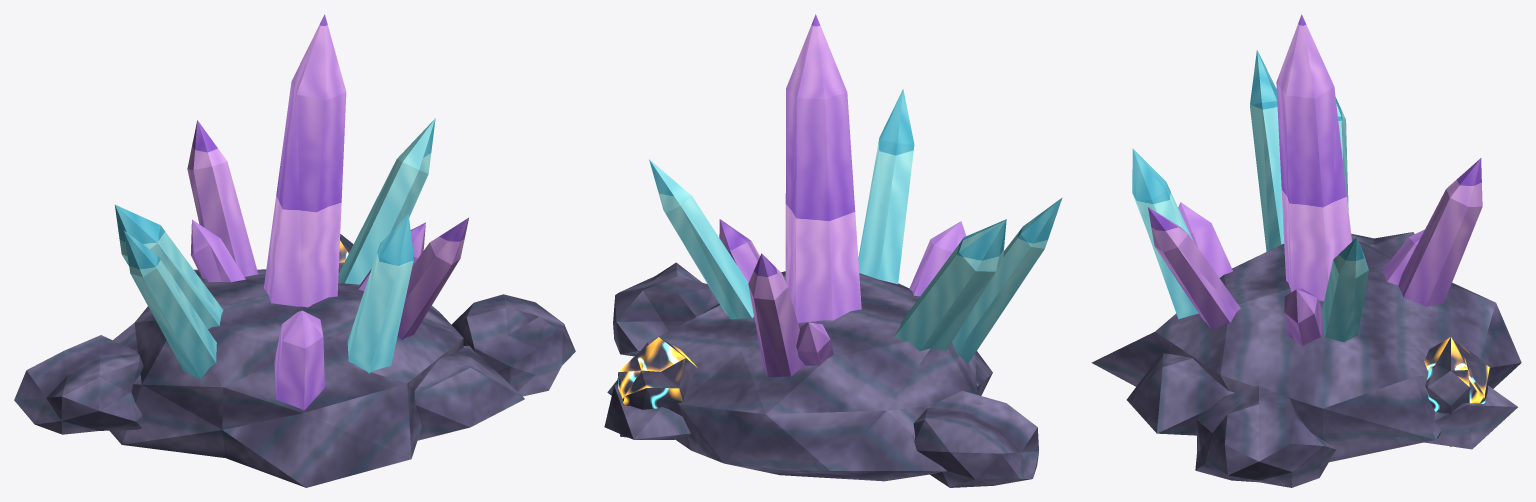
File: cluster_large.glb
The picture shows the model from 3 angles, left to right: view 1: azimuth 30°, elevation 25°; view 2: azimuth 150°, elevation 25°; view 3: azimuth 270°, elevation 25°; orthographic projection.
Visible parts, largest first — view 1: cluster_large; view 2: cluster_large; view 3: cluster_large.
Boxes of the visible parts, left/top/right/bottom form: cluster_large: left=14, top=14, right=575, bottom=487; cluster_large: left=604, top=14, right=1062, bottom=487; cluster_large: left=1091, top=14, right=1521, bottom=487.
Bounding box in the file's own units: 4.24 × 3.35 × 3.36.
Materials: 6 (6 with a texture image).
